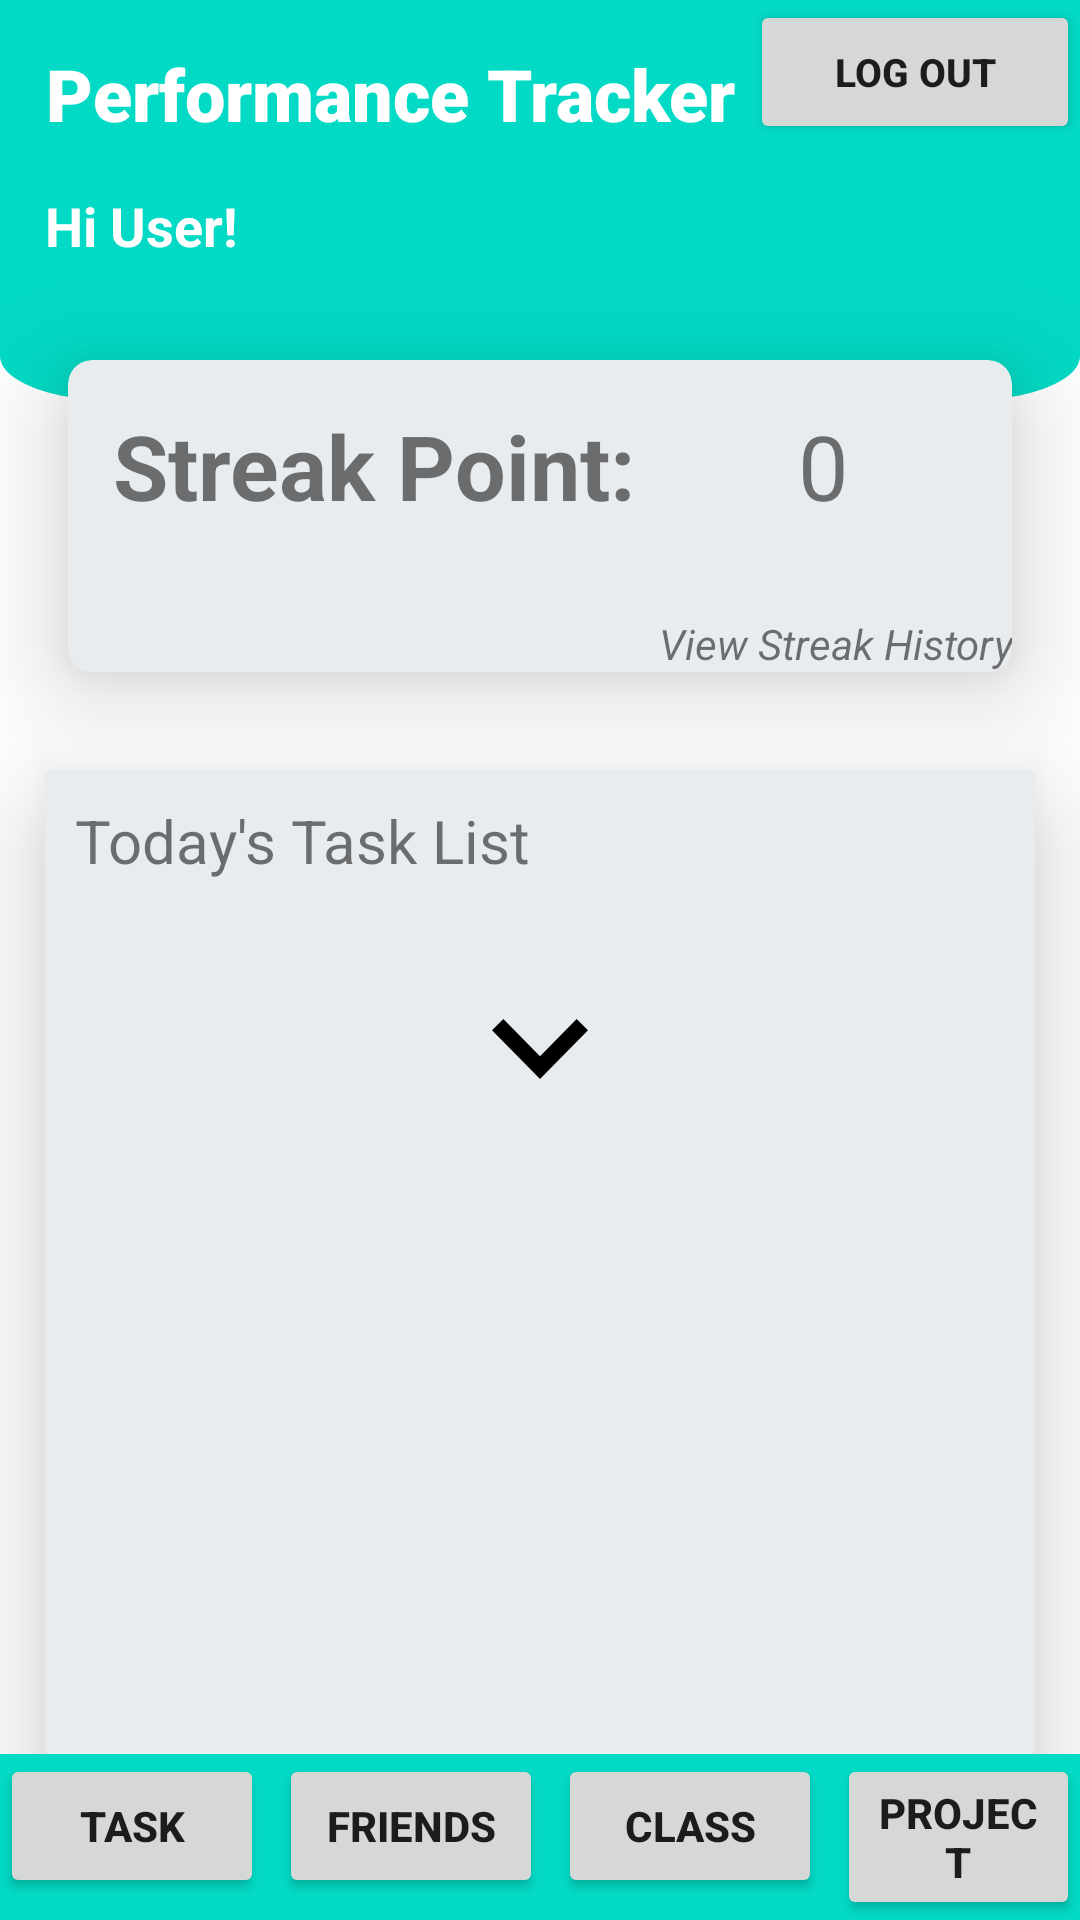

Locate icon controls on the screen. Image size 1080w x 1920h, boxes as (x1, y1, x2, y2).
view more: (492, 1019, 588, 1079)
